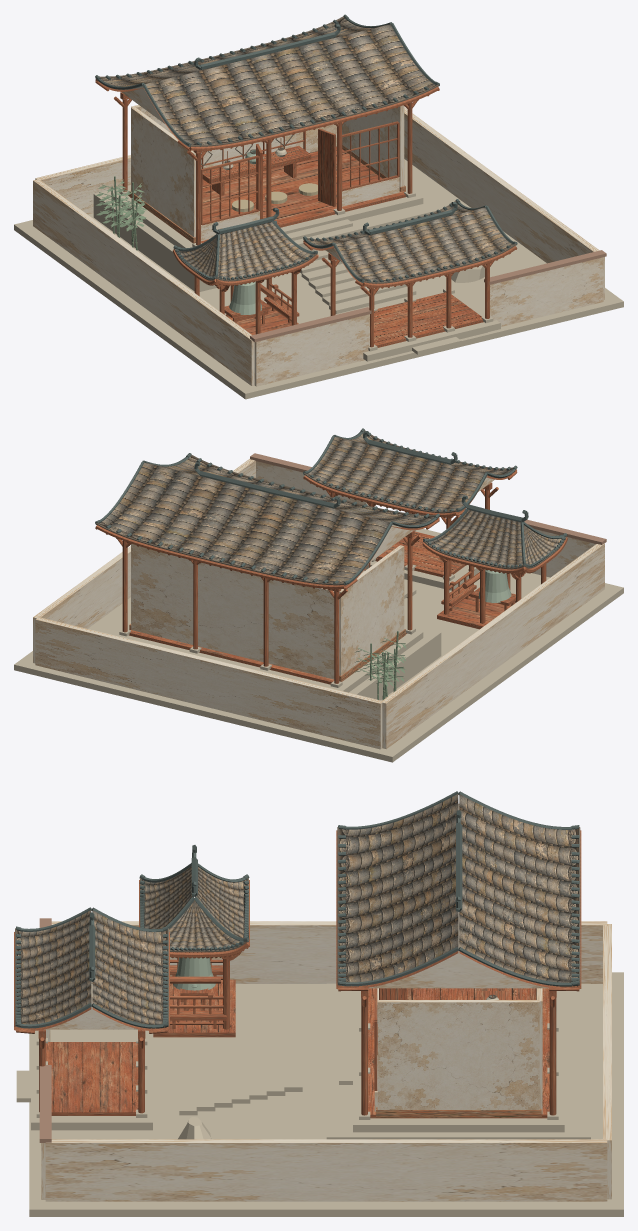
3 views of the same model, one above another, from view 1: azimuth 30°, elevation 25°; view 2: azimuth 150°, elevation 25°; view 3: azimuth 270°, elevation 25° (orthographic). The views are drawn at different scales.
Parts seen in each view (by area): view 1: dinghui-a__painted_plaster, dinghui-a__painted_roof, dinghui-a__warm_limestone, dinghui-a__painted_cedar, dinghui-a__tile_ridges, dinghui-a__chibi_ink, dinghui-a__jade_foliage, dinghui-a__chibi_celadon, dinghui-a__painted_brick, dinghui-a__chibi_bamboo; view 2: dinghui-a__painted_plaster, dinghui-a__painted_roof, dinghui-a__warm_limestone, dinghui-a__painted_cedar, dinghui-a__tile_ridges, dinghui-a__chibi_ink, dinghui-a__jade_foliage, dinghui-a__chibi_celadon, dinghui-a__painted_brick; view 3: dinghui-a__painted_plaster, dinghui-a__warm_limestone, dinghui-a__painted_roof, dinghui-a__painted_cedar, dinghui-a__tile_ridges, dinghui-a__chibi_ink, dinghui-a__painted_brick, dinghui-a__chibi_celadon.
Part boxes in pixels (x1=…): dinghui-a__painted_plaster: x1=33, y1=86, x2=604, y2=386; dinghui-a__painted_roof: x1=100, y1=17, x2=606, y2=342; dinghui-a__warm_limestone: x1=14, y1=148, x2=623, y2=399; dinghui-a__painted_cedar: x1=95, y1=79, x2=517, y2=347; dinghui-a__tile_ridges: x1=95, y1=14, x2=517, y2=283; dinghui-a__chibi_ink: x1=99, y1=16, x2=516, y2=283; dinghui-a__jade_foliage: x1=95, y1=176, x2=146, y2=250; dinghui-a__chibi_celadon: x1=229, y1=150, x2=263, y2=314; dinghui-a__painted_brick: x1=129, y1=145, x2=405, y2=243; dinghui-a__chibi_bamboo: x1=232, y1=183, x2=317, y2=212; dinghui-a__painted_plaster: x1=33, y1=459, x2=604, y2=749; dinghui-a__painted_roof: x1=99, y1=431, x2=606, y2=583; dinghui-a__warm_limestone: x1=14, y1=529, x2=623, y2=762; dinghui-a__painted_cedar: x1=95, y1=469, x2=567, y2=684; dinghui-a__tile_ridges: x1=95, y1=428, x2=567, y2=585; dinghui-a__chibi_ink: x1=96, y1=430, x2=566, y2=585; dinghui-a__jade_foliage: x1=355, y1=631, x2=407, y2=699; dinghui-a__chibi_celadon: x1=478, y1=569, x2=511, y2=602; dinghui-a__painted_brick: x1=129, y1=624, x2=405, y2=681; dinghui-a__painted_plaster: x1=41, y1=803, x2=611, y2=1201; dinghui-a__warm_limestone: x1=16, y1=972, x2=623, y2=1216; dinghui-a__painted_roof: x1=17, y1=794, x2=578, y2=1142; dinghui-a__painted_cedar: x1=14, y1=830, x2=581, y2=1118; dinghui-a__tile_ridges: x1=15, y1=791, x2=579, y2=1028; dinghui-a__chibi_ink: x1=15, y1=827, x2=580, y2=1025; dinghui-a__painted_brick: x1=376, y1=1107, x2=541, y2=1117; dinghui-a__chibi_celadon: x1=173, y1=957, x2=215, y2=990.
Size of the model in its own units: 17 by 8.16 by 18.46.
Materials: 11 (4 with a texture image).
